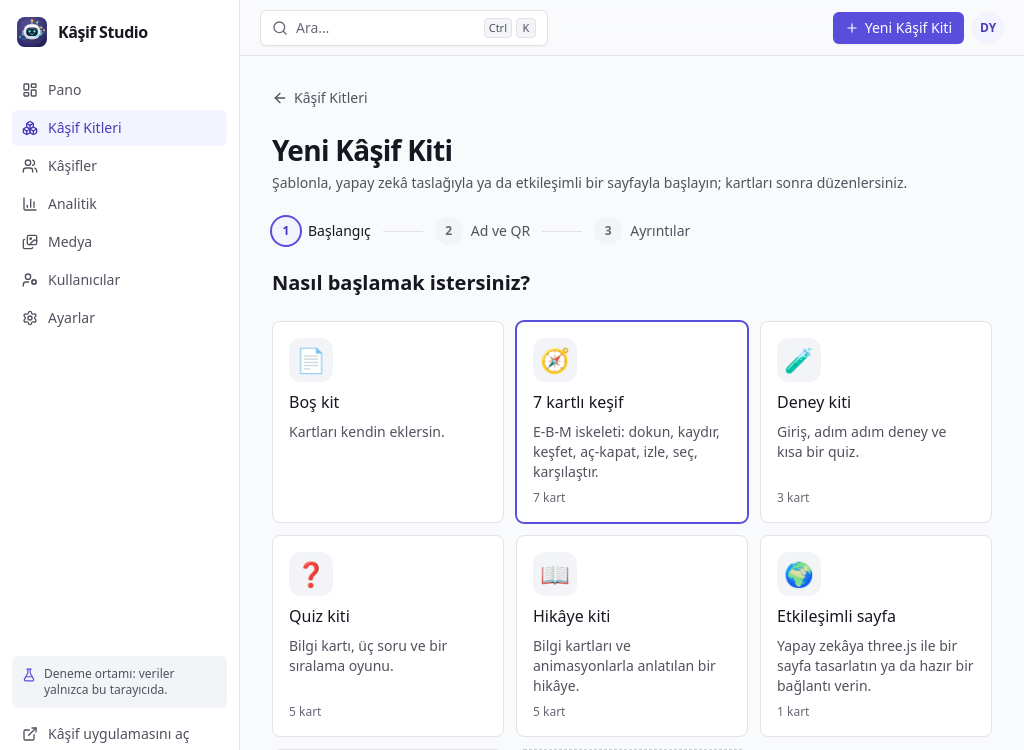
Studio pages (admin, demo data) › new kit wizard: template → name → details
Check: the heading "Yeni Kâşif Kiti" is shown, box [272, 131, 452, 169]
Click the radio button labelled "📄 Boş kit Kartları kendin eklersin." at coordinates (388, 422), box [272, 321, 504, 523]
(page scrolled)
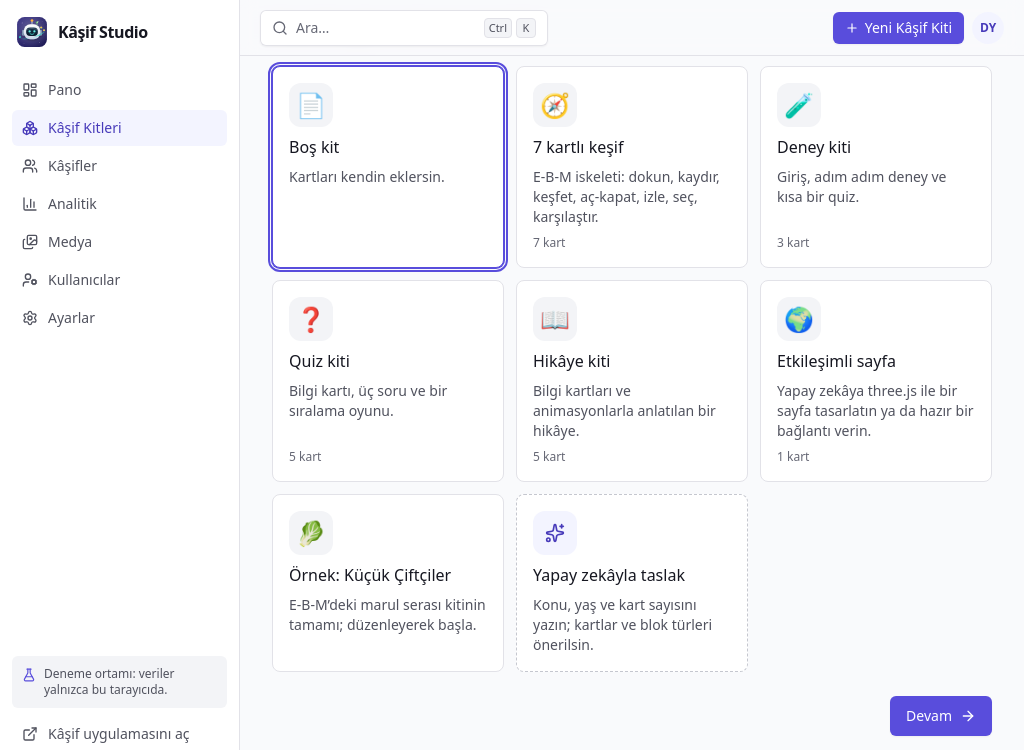
Click the button "Devam" at coordinates (941, 716), box [890, 696, 992, 736]
(page scrolled)
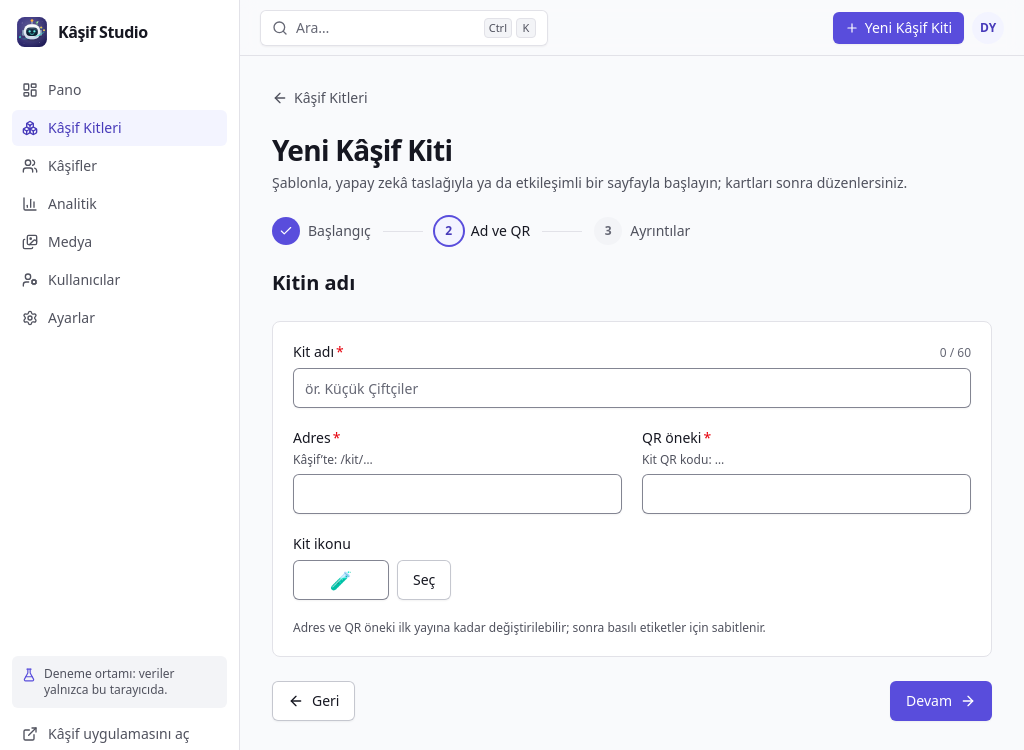
Type "Ses Dalgaları" into the field labelled "Kit adı*" at coordinates (632, 388), box [293, 368, 971, 408]
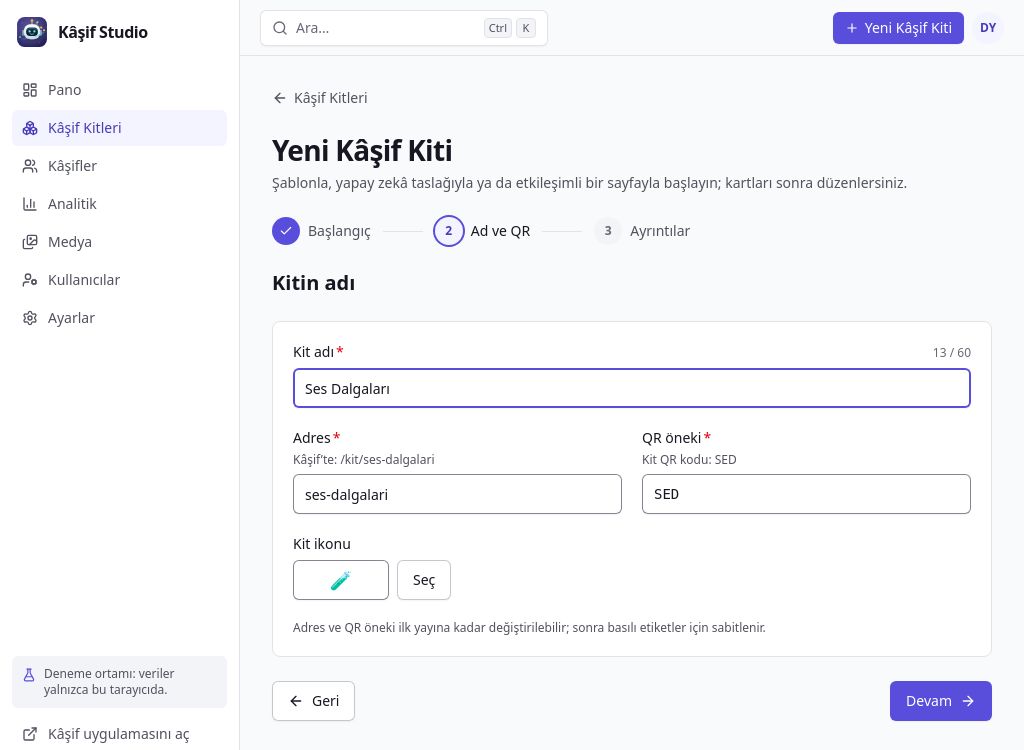
Click the button "Devam" at coordinates (941, 701), box [890, 681, 992, 721]
(page scrolled)
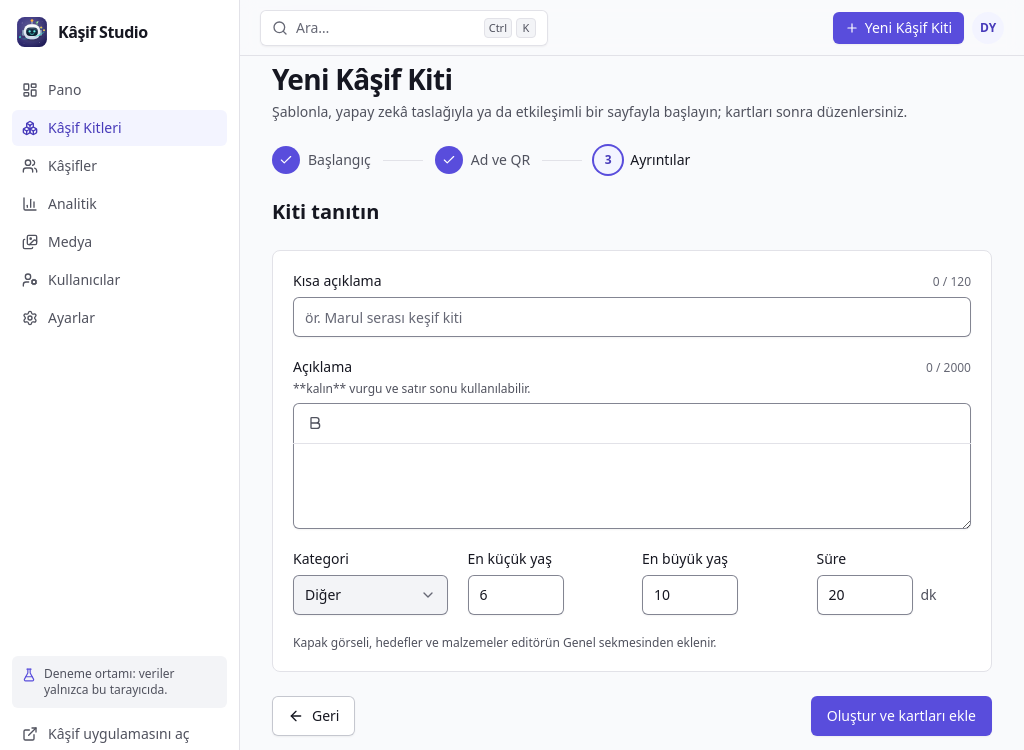
Check: the button "Oluştur ve kartları ekle" is shown, box [811, 696, 992, 736]
